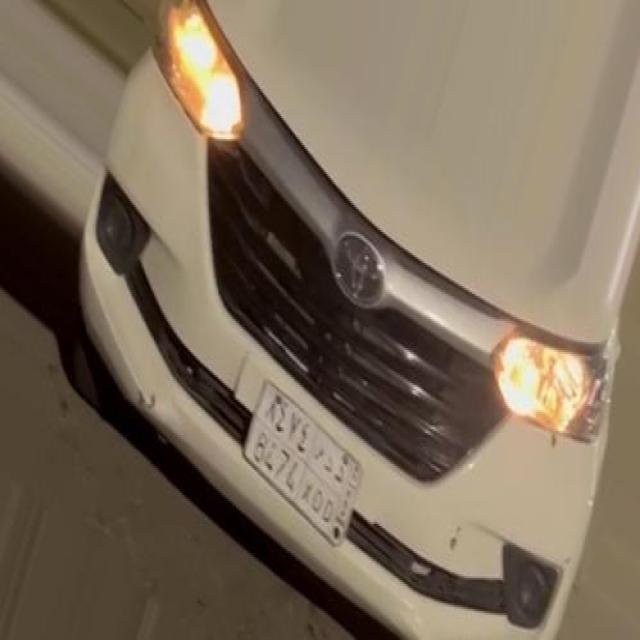Car-plate: (230, 359, 383, 567)
